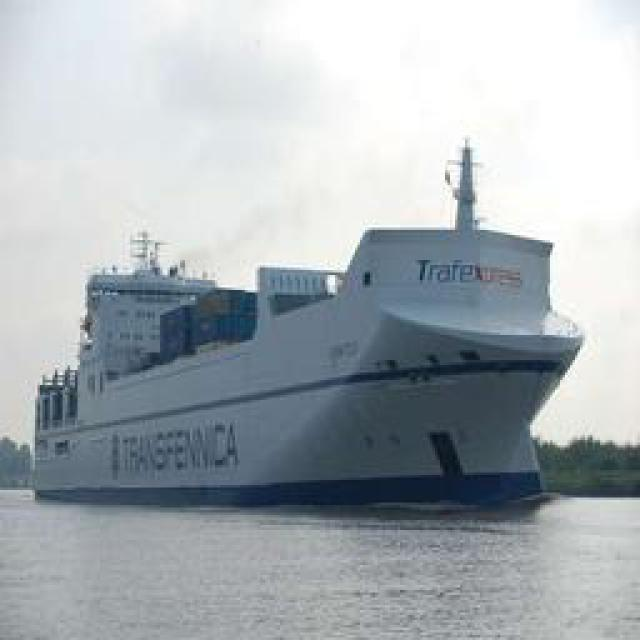Ship: (30, 155, 580, 513)
